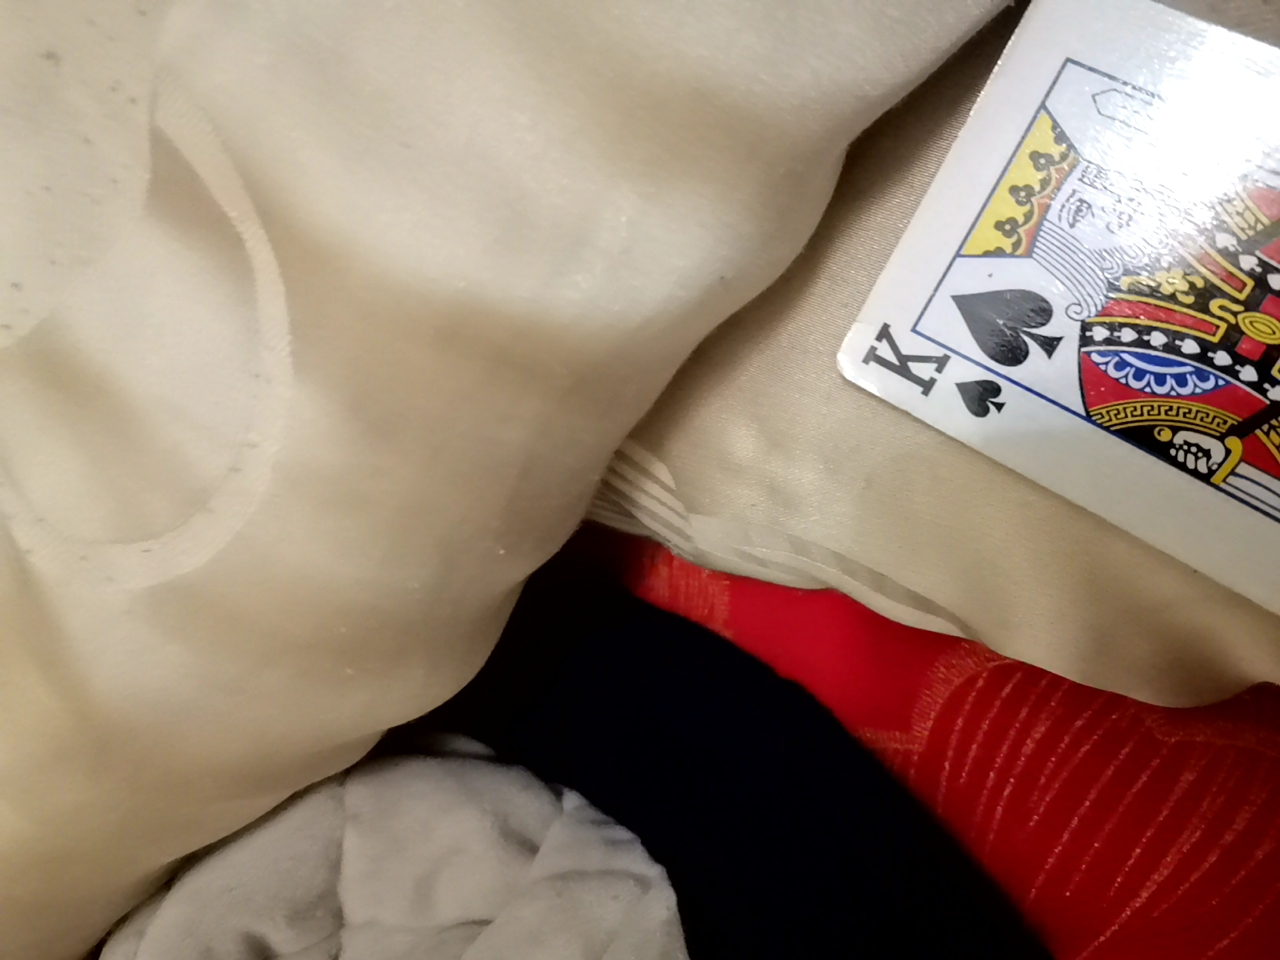ht k: (824, 9, 1272, 739)
